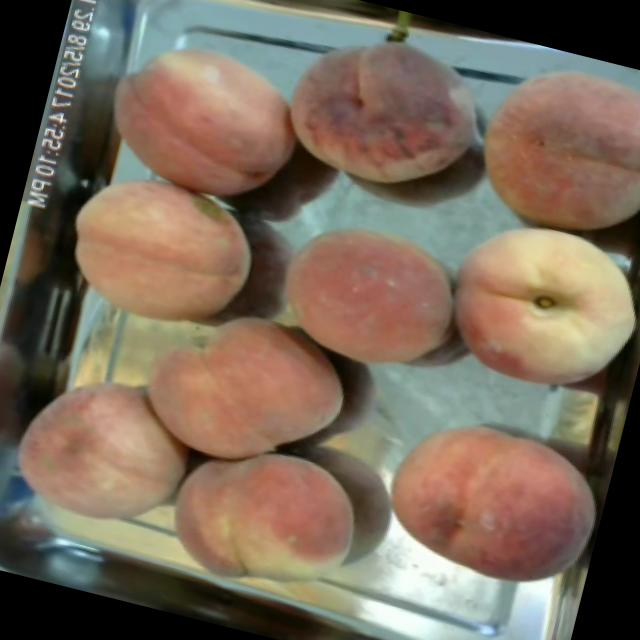Fruit: (254, 0, 519, 229), (361, 393, 618, 612), (140, 410, 385, 633), (124, 281, 370, 501), (414, 200, 640, 421), (255, 190, 490, 402), (84, 17, 326, 216), (443, 32, 640, 265), (45, 160, 276, 356), (0, 350, 213, 555)
